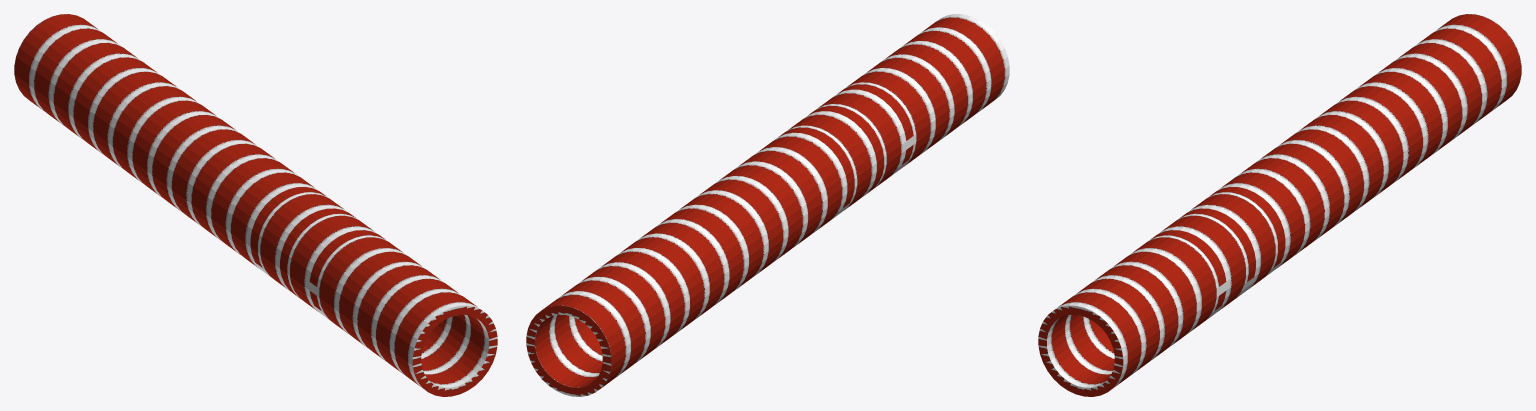
File: pipe1.dae
3 renders of one model, left to right at view 1: azimuth 30°, elevation 25°; view 2: azimuth 150°, elevation 25°; view 3: azimuth 330°, elevation 25°, orthographic.
Parts seen in each view (by area): view 1: pipe1; view 2: pipe1; view 3: pipe1.
Part boxes in pixels (x1,y1,x2,y2): pipe1: (14, 14, 497, 396); pipe1: (526, 14, 1009, 396); pipe1: (1038, 14, 1521, 396).
Bounding box in the file's own units: 4.98 × 40.5 × 4.98.
